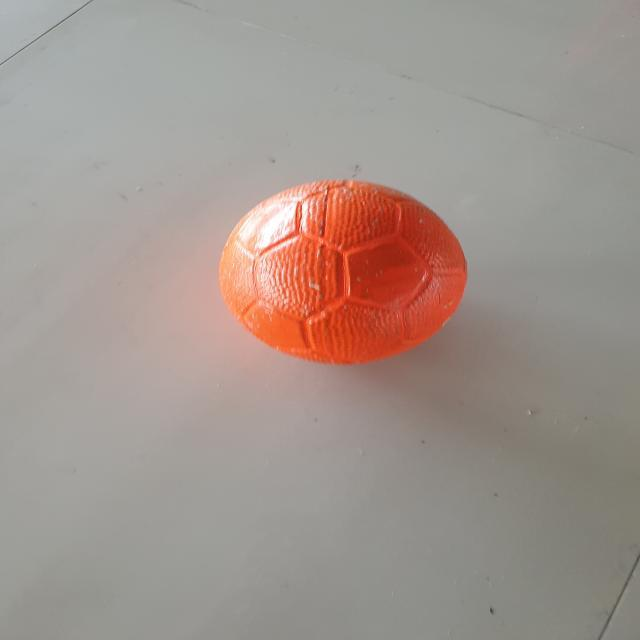bola: (212, 174, 480, 374)
